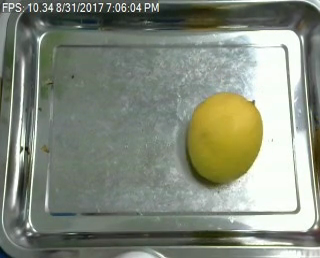Mango: (189, 92, 264, 182)
